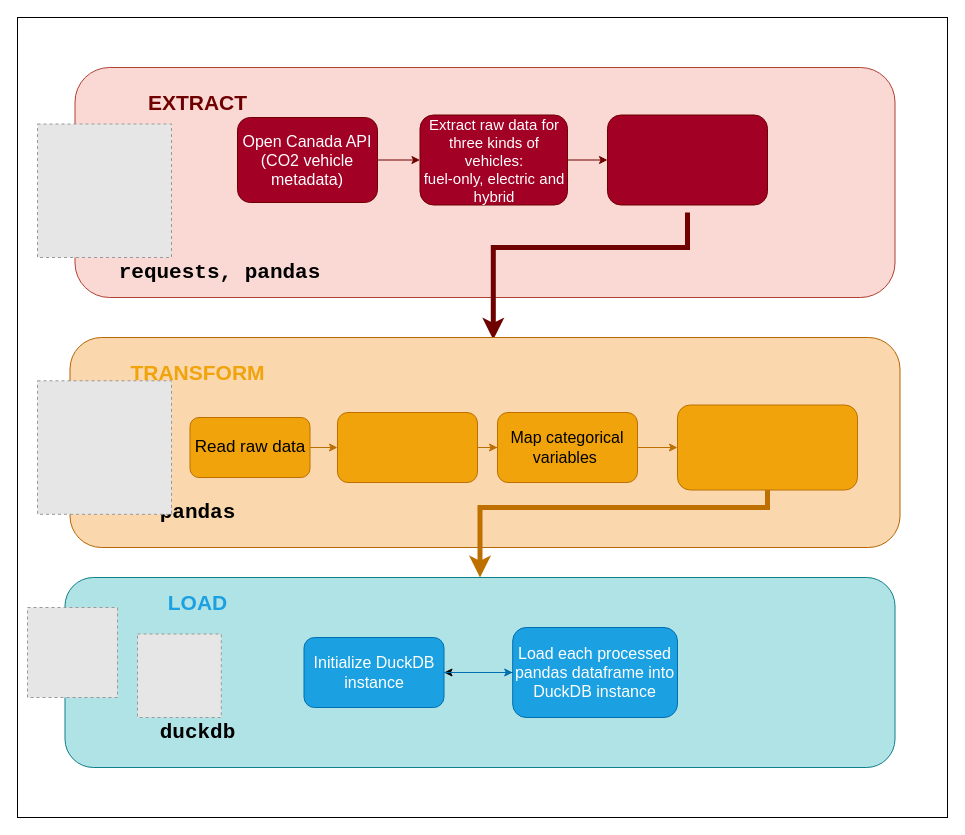
The diagram is 965 pixels wide and 835 high, and some of its shapes have lost their labels. Grey dashed boxes stand in for pictures. The shapes that lost their labels are listed below. From the top down, each one's centre as x and y in pixels, then its label:
At point 687,159: "Hold raw data in memory in a pandas dataframe".
At point 407,447: "Column rename: odd character removal".
At point 767,447: "Merge pandas dataframes into one: fuel-only, electric, hybrid".
